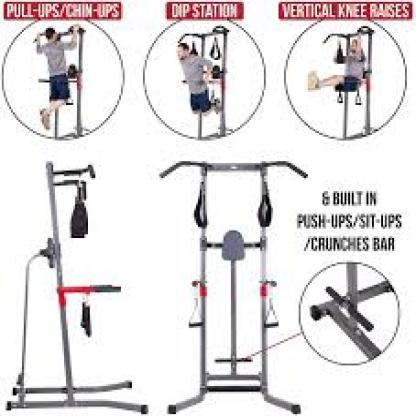chinning dipping: (160, 158, 308, 414), (8, 160, 155, 413)
